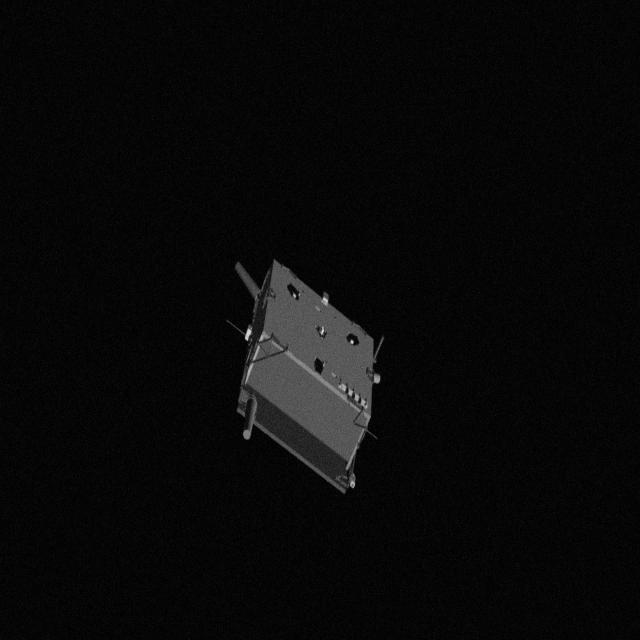satellite: (232, 256, 380, 496)
